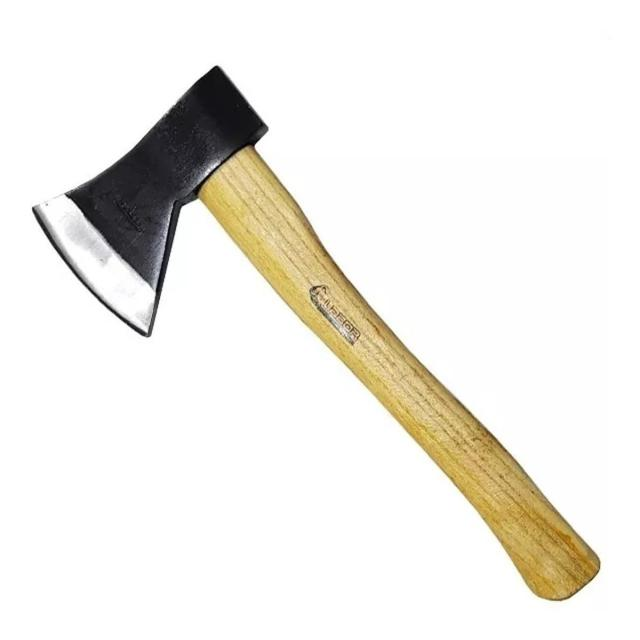Kapak: (43, 41, 599, 592)
